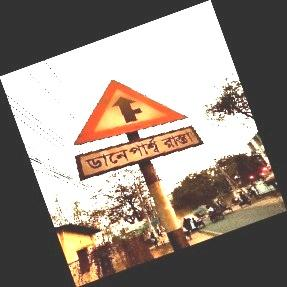Side-road-right: (73, 79, 200, 181)
